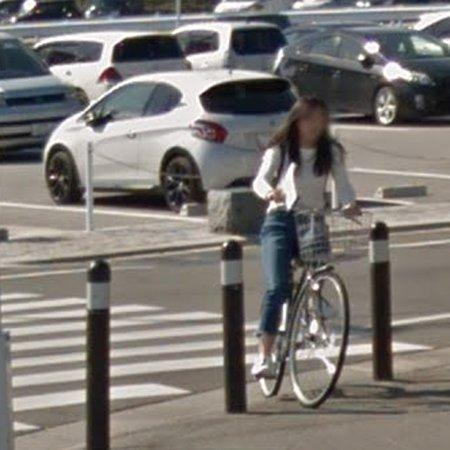crosswalks: (2, 293, 85, 435), (111, 305, 223, 410)
